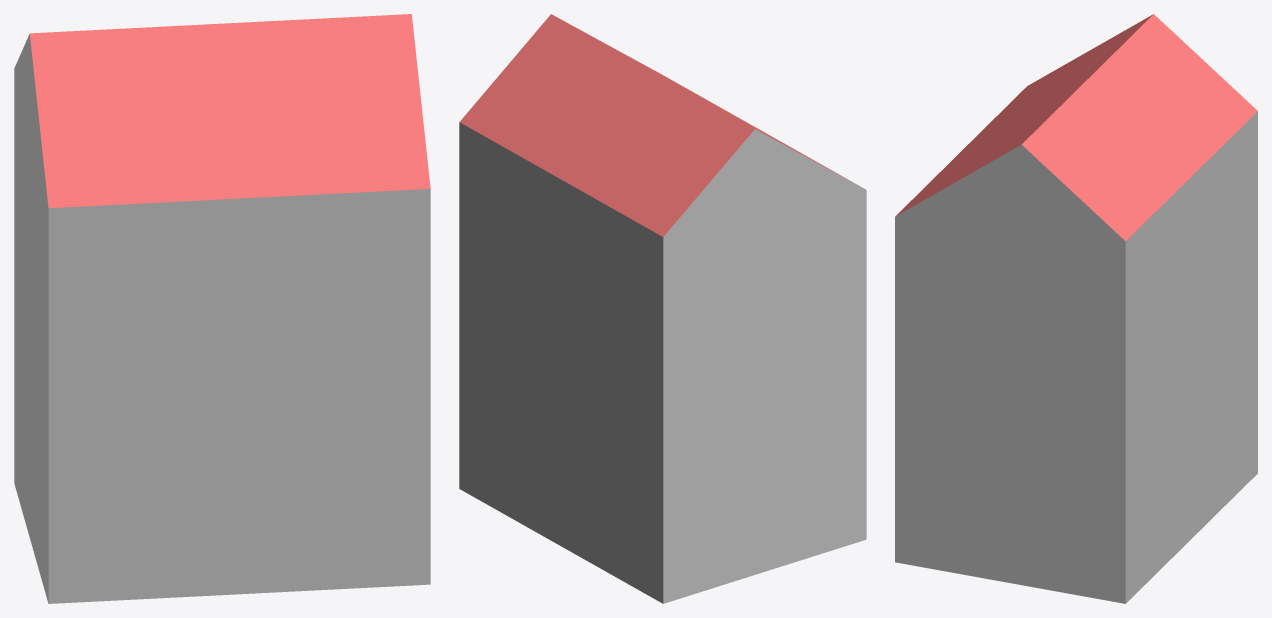
File: DEBY_LOD2_4907036.gltf
3 renders of one model, left to right at view 1: azimuth 30°, elevation 25°; view 2: azimuth 150°, elevation 25°; view 3: azimuth 270°, elevation 25°, orthographic. The views are drawn at different scales.
Visible parts, largest first — view 1: Z_UP; view 2: Z_UP; view 3: Z_UP.
Part boxes in pixels (box(x1,y1,x2,y2)): Z_UP: box(14, 14, 430, 603); Z_UP: box(459, 14, 866, 603); Z_UP: box(895, 14, 1257, 603).
Bounding box in the file's own units: 19.24 × 22.95 × 17.13.
